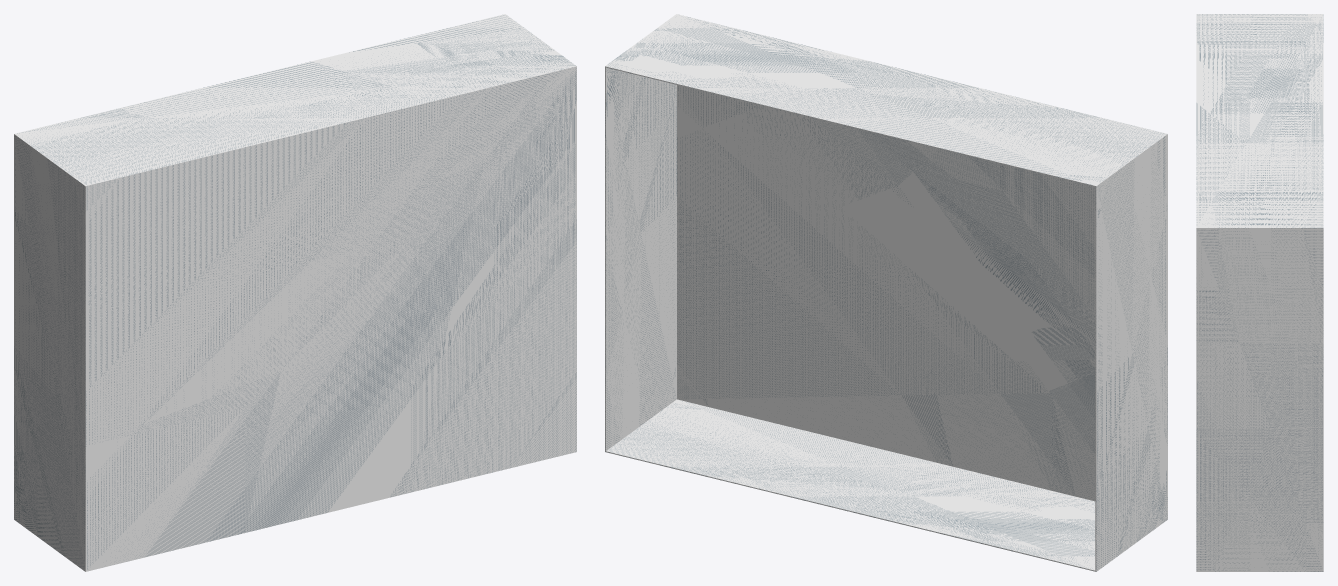
The model's file is 17_IconicFrame_2_600-0x450-0x151-2.dae.
The picture shows the model from 3 angles, left to right: view 1: azimuth 30°, elevation 25°; view 2: azimuth 150°, elevation 25°; view 3: azimuth 270°, elevation 25°; orthographic projection. The views are drawn at different scales.
Parts seen in each view (by area): view 1: SketchUp; view 2: SketchUp_Instance_0, SketchUp; view 3: SketchUp.
Part boxes in pixels (x1,y1,x2,y2): SketchUp: (14,14,576,571); SketchUp_Instance_0: (606,67,1095,570); SketchUp: (605,14,1167,571); SketchUp: (1196,14,1323,571).
Size of the model in its own units: 23.62 by 5.95 by 17.72.
